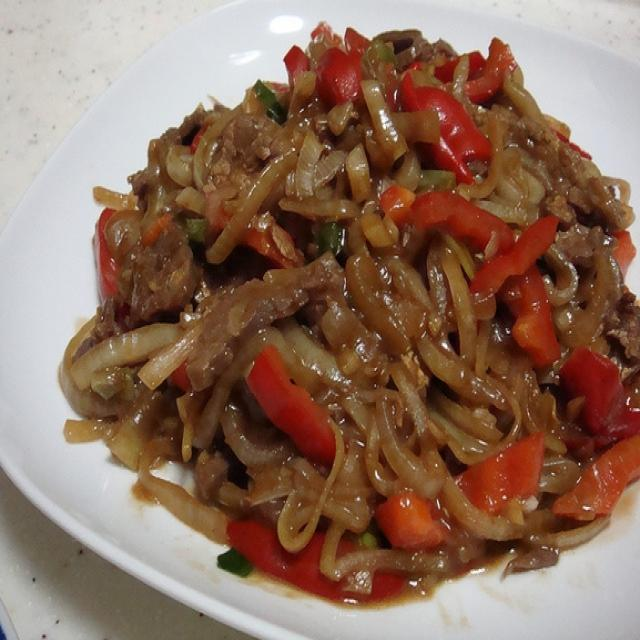牛肉菜式: (11, 10, 623, 612)
